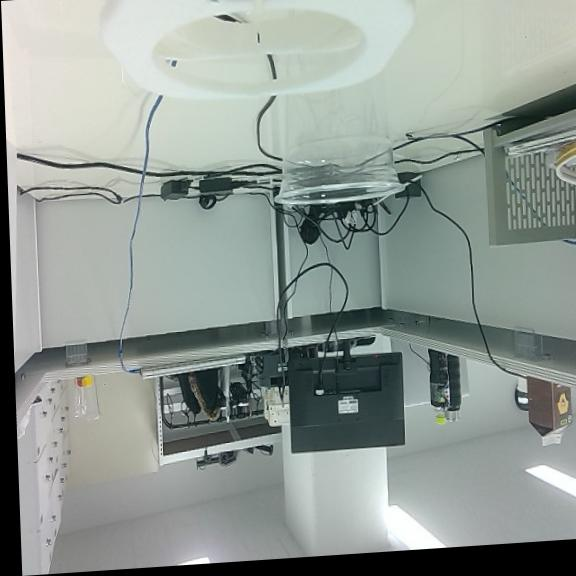Plastik: (276, 75, 398, 203)
